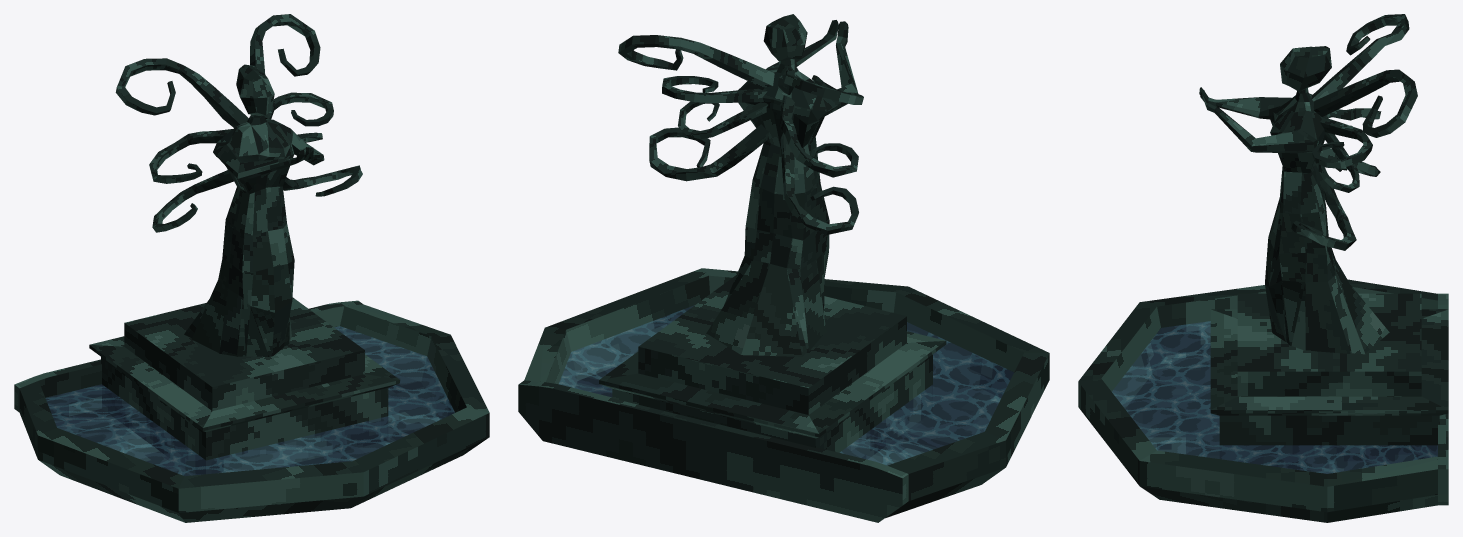
File: Estatua-fuente.glb
The picture shows the model from 3 angles, left to right: view 1: azimuth 30°, elevation 25°; view 2: azimuth 150°, elevation 25°; view 3: azimuth 270°, elevation 25°; orthographic projection. The views are drawn at different scales.
Visible parts, largest first — view 1: Mujer-col; view 2: Mujer-col; view 3: Mujer-col.
Part boxes in pixels (x1=…): Mujer-col: x1=14, y1=14, x2=489, y2=522; Mujer-col: x1=518, y1=14, x2=1049, y2=522; Mujer-col: x1=1078, y1=14, x2=1448, y2=522.
Size of the model in its own units: 2.56 by 2.19 by 1.91.
2 materials, 2 textured.
